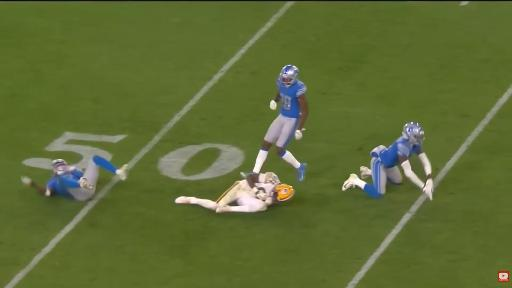Helmet: (403, 122, 424, 144), (280, 65, 298, 86), (274, 184, 294, 202), (52, 159, 67, 167)
Jersey: (379, 137, 421, 168), (47, 166, 83, 199), (277, 78, 306, 118), (255, 173, 280, 197)
Player: (343, 123, 433, 199), (253, 65, 308, 180), (22, 156, 127, 201), (175, 173, 294, 212)
